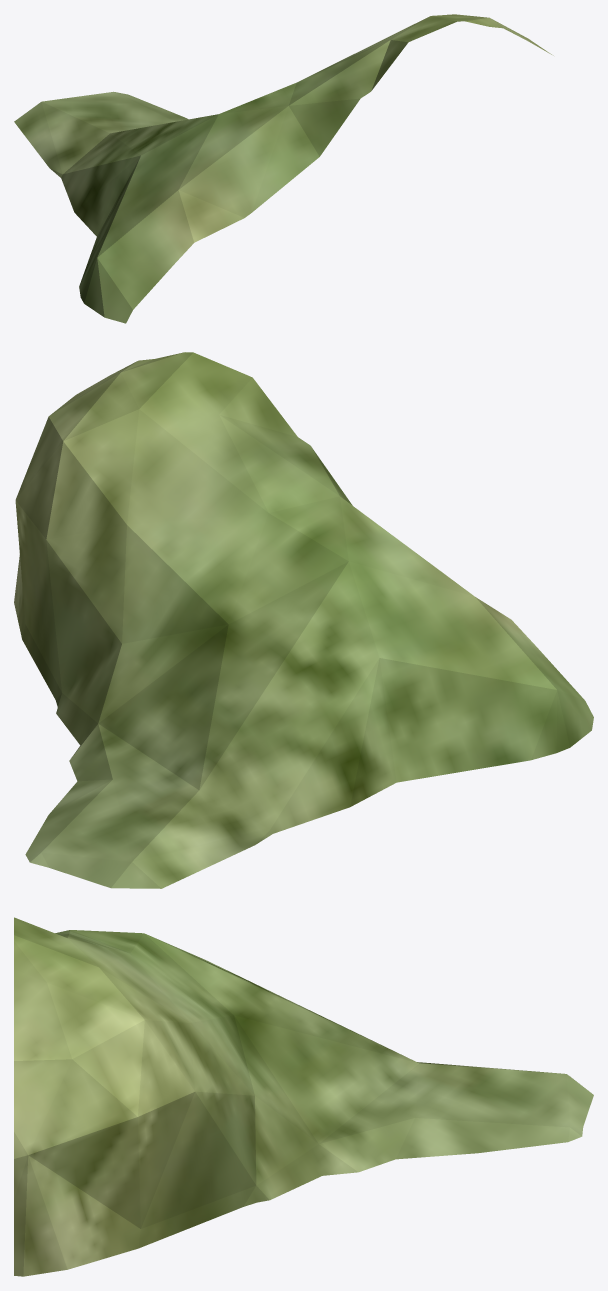
3 renders of one model, top to bottom at view 1: azimuth 30°, elevation 25°; view 2: azimuth 150°, elevation 25°; view 3: azimuth 270°, elevation 25°, orthographic. The views are drawn at different scales.
Size of the model in its own units: 0.8177 by 0.3597 by 0.7222.
1 material, 1 textured.
